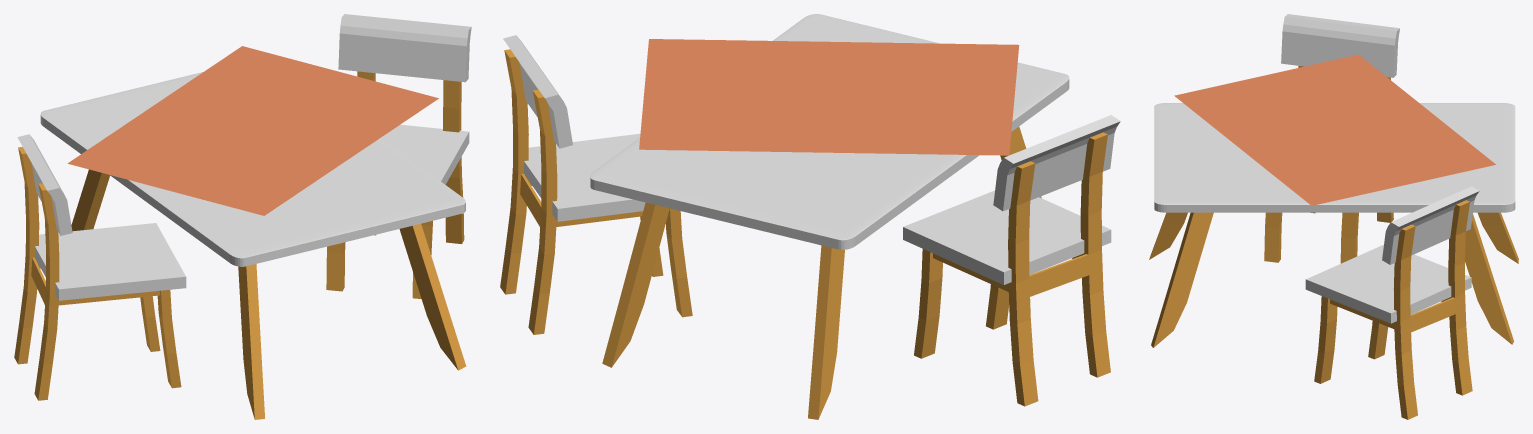
Rendered from table.glb.
3 views of the same model, side by side, from view 1: azimuth 30°, elevation 25°; view 2: azimuth 150°, elevation 25°; view 3: azimuth 270°, elevation 25° (orthographic). The views are drawn at different scales.
Parts seen in each view (by area): view 1: Plane, Cube, Cube.009, Cube.006, Cube.010, Cube.005, Cube.004, Cube.008, Cube.003, Cube.007, Cube.002; view 2: Plane, Cube, Cube.009, Cube.005, Cube.006, Cube.008, Cube.007, Cube.001, Cube.002, Cube.010; view 3: Plane, Cube, Cube.005, Cube.008, Cube.007, Cube.004, Cube.010, Cube.001, Cube.009, Cube.002, Cube.003.
Part boxes in pixels (left/top/right/bottom): Plane: left=67, top=46, right=438, bottom=215; Cube: left=40, top=72, right=465, bottom=266; Cube.009: left=14, top=147, right=181, bottom=400; Cube.006: left=35, top=223, right=186, bottom=300; Cube.010: left=338, top=14, right=471, bottom=82; Cube.005: left=326, top=71, right=464, bottom=298; Cube.004: left=399, top=224, right=466, bottom=370; Cube.008: left=381, top=124, right=469, bottom=184; Cube.003: left=238, top=264, right=264, bottom=419; Cube.007: left=17, top=134, right=72, bottom=235; Cube.002: left=71, top=169, right=109, bottom=231; Plane: left=639, top=39, right=1019, bottom=155; Cube: left=590, top=14, right=1069, bottom=249; Cube.009: left=914, top=132, right=1110, bottom=406; Cube.005: left=500, top=49, right=692, bottom=334; Cube.006: left=903, top=190, right=1111, bottom=284; Cube.008: left=524, top=133, right=645, bottom=221; Cube.007: left=993, top=115, right=1120, bottom=211; Cube.001: left=602, top=202, right=669, bottom=367; Cube.002: left=808, top=245, right=844, bottom=419; Cube.010: left=503, top=35, right=572, bottom=148; Plane: left=1174, top=54, right=1495, bottom=205; Cube: left=1154, top=103, right=1515, bottom=212; Cube.005: left=1314, top=200, right=1472, bottom=419; Cube.008: left=1305, top=244, right=1471, bottom=323; Cube.007: left=1281, top=14, right=1399, bottom=77; Cube.004: left=1151, top=212, right=1213, bottom=347; Cube.010: left=1382, top=186, right=1479, bottom=264; Cube.001: left=1465, top=214, right=1513, bottom=344; Cube.009: left=1264, top=66, right=1393, bottom=263; Cube.002: left=1477, top=212, right=1518, bottom=263; Cube.003: left=1149, top=212, right=1187, bottom=259.
Size of the model in its own units: 8.59 by 3.68 by 6.3.
